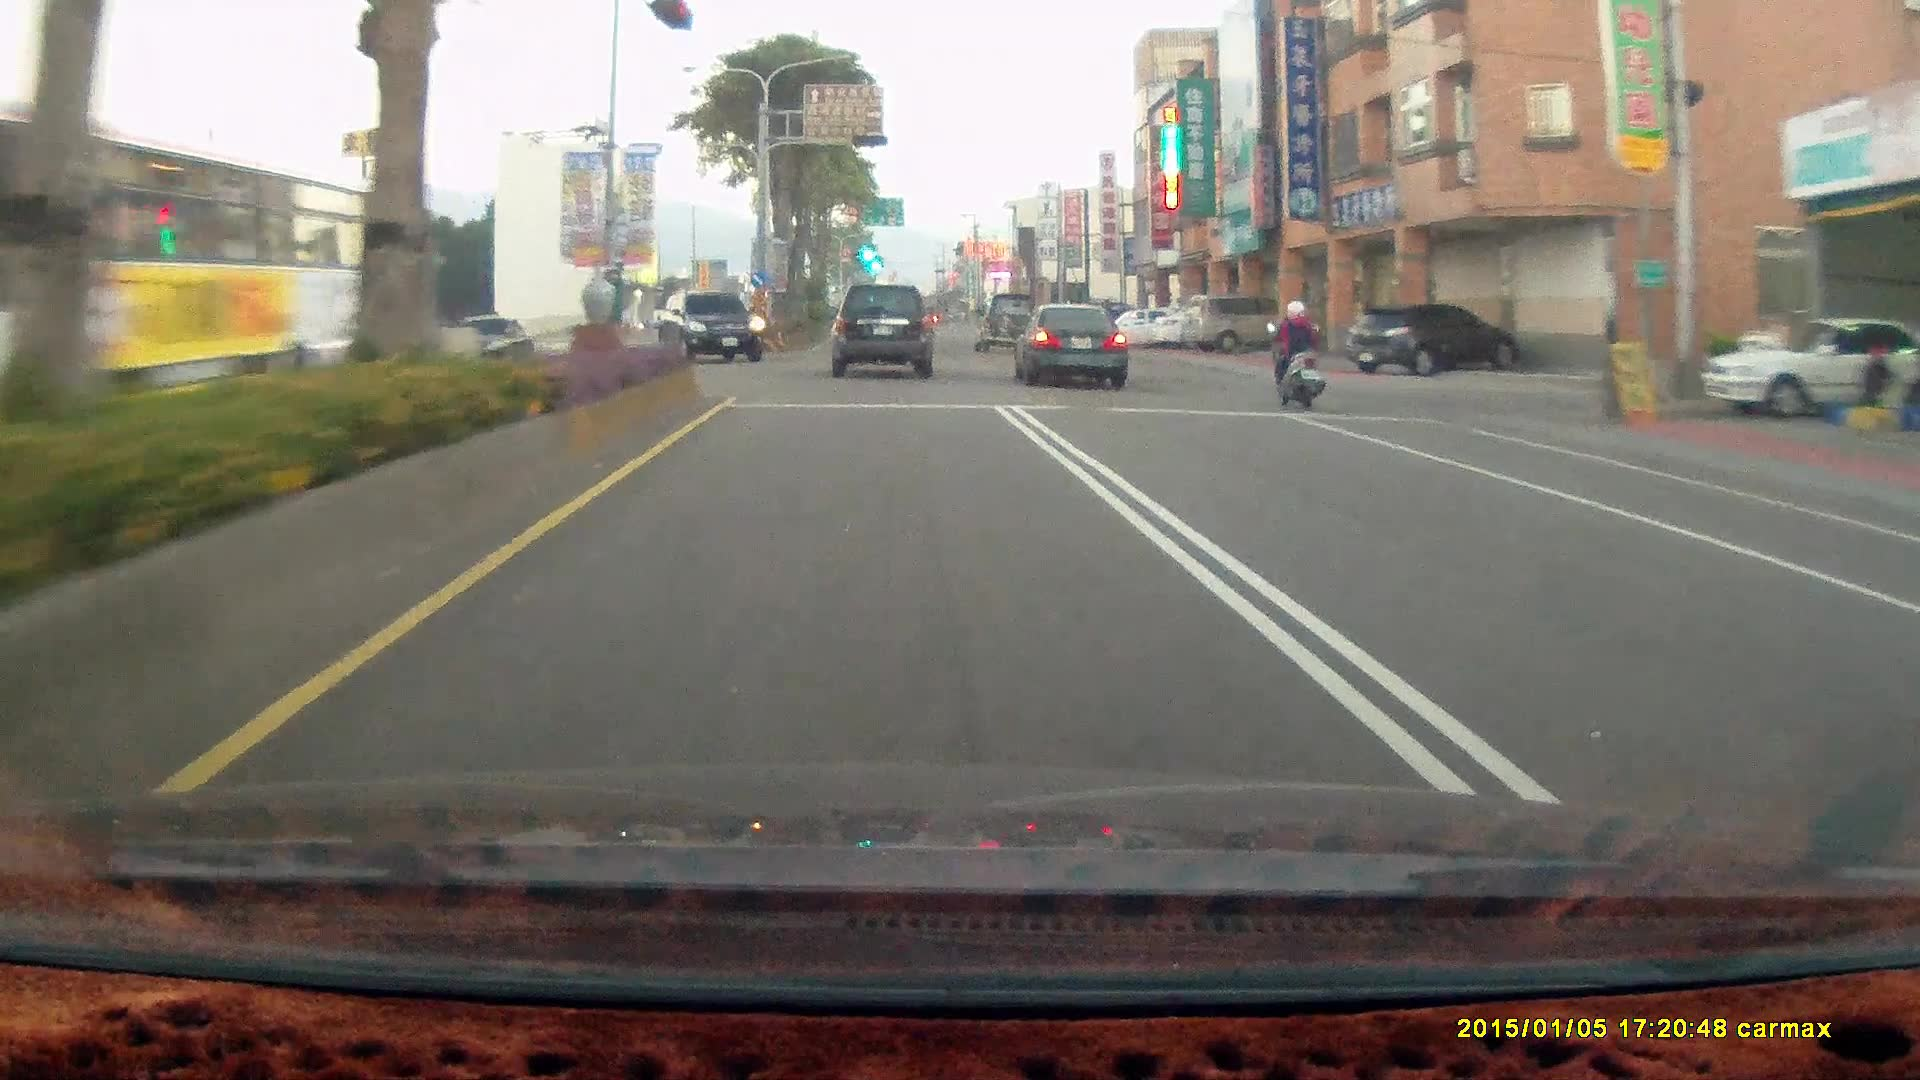pedestrian: (1860, 340, 1893, 416)
rider: (1257, 288, 1337, 422), (1267, 299, 1325, 409)
vehicle: (1, 107, 405, 422), (1, 106, 404, 421), (1699, 312, 1916, 417), (1704, 317, 1920, 417), (1341, 303, 1520, 376), (1345, 301, 1518, 372), (1011, 299, 1130, 386), (1009, 300, 1128, 386), (829, 281, 935, 376), (829, 280, 932, 375), (657, 292, 766, 366), (656, 287, 765, 359), (1177, 295, 1286, 353), (1177, 295, 1285, 352), (437, 312, 532, 373), (972, 290, 1039, 352), (1098, 304, 1189, 348)
